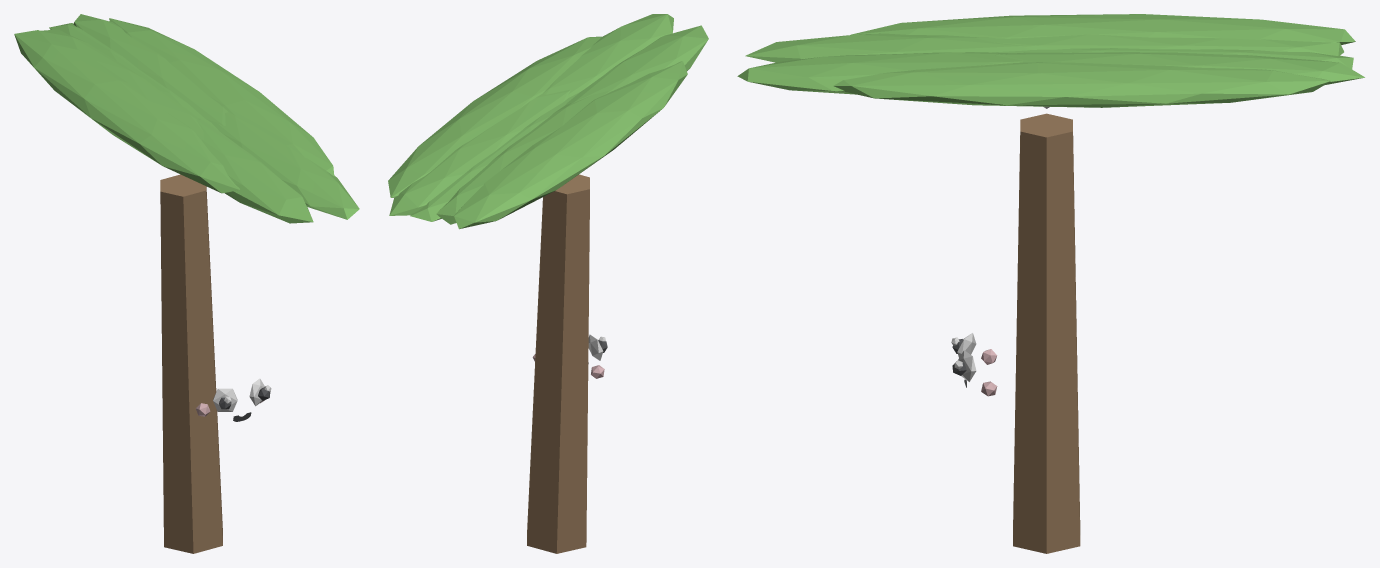
Rendered from elaeis-guineensis.glb.
3 views of the same model, side by side, from view 1: azimuth 30°, elevation 25°; view 2: azimuth 150°, elevation 25°; view 3: azimuth 270°, elevation 25° (orthographic). The views are drawn at different scales.
Parts seen in each view (by area): view 1: trunk, frond3, frond0, frond1, frond2, frond6, frond4, frond5; view 2: trunk, frond3, frond0, frond6, frond1, frond2, frond4, frond5; view 3: trunk, frond0, frond3, frond1, frond6, frond2, frond4, frond5.
Part boxes in pixels (x1=…): trunk: x1=160, y1=174, x2=222, y2=553; frond3: x1=14, y1=30, x2=239, y2=193; frond0: x1=109, y1=18, x2=334, y2=176; frond1: x1=212, y1=112, x2=359, y2=219; frond2: x1=196, y1=118, x2=313, y2=223; frond6: x1=73, y1=14, x2=228, y2=125; frond4: x1=40, y1=29, x2=203, y2=140; frond5: x1=49, y1=23, x2=218, y2=130; trunk: x1=527, y1=174, x2=589, y2=553; frond3: x1=454, y1=61, x2=687, y2=229; frond0: x1=388, y1=36, x2=602, y2=197; frond6: x1=389, y1=90, x2=570, y2=215; frond1: x1=542, y1=14, x2=673, y2=97; frond2: x1=565, y1=25, x2=708, y2=105; frond4: x1=436, y1=90, x2=611, y2=224; frond5: x1=410, y1=92, x2=579, y2=221; trunk: x1=1013, y1=113, x2=1080, y2=553; frond0: x1=833, y1=62, x2=1330, y2=107; frond3: x1=851, y1=14, x2=1355, y2=44; frond1: x1=737, y1=52, x2=1022, y2=94; frond6: x1=995, y1=52, x2=1364, y2=85; frond2: x1=745, y1=33, x2=1031, y2=62; frond4: x1=974, y1=34, x2=1343, y2=55; frond5: x1=992, y1=48, x2=1353, y2=69.
Bounding box in the file's own units: 0.2288 × 0.6296 × 0.7265.
